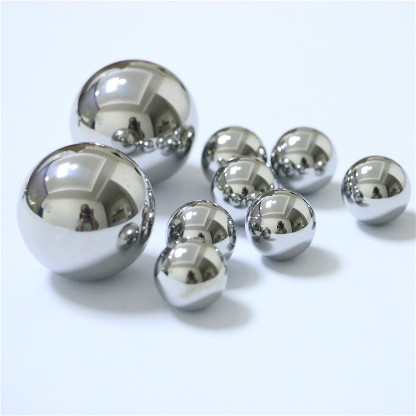ironball: (16, 141, 155, 281), (69, 58, 198, 186), (153, 236, 227, 311), (244, 188, 316, 260), (340, 154, 410, 225), (210, 154, 278, 224), (270, 126, 337, 195), (165, 199, 236, 261), (200, 125, 267, 183)
